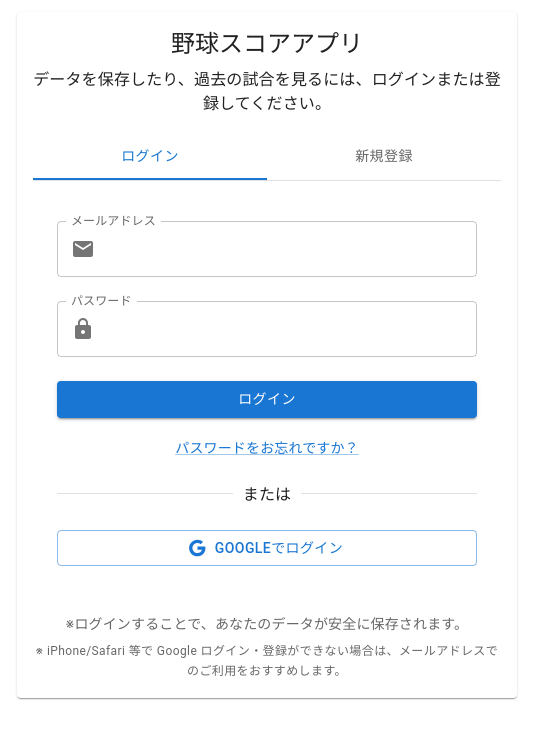
Test: Login component - Google Sign In › ポップアップがブラウザにブロックされた場合 (auth/popup-blocked) に適切なメッセージを表示する
This screenshot has width=535, height=748.
Click the button "Googleでログイン". click: (267, 548)
box: [57,530,477,566]
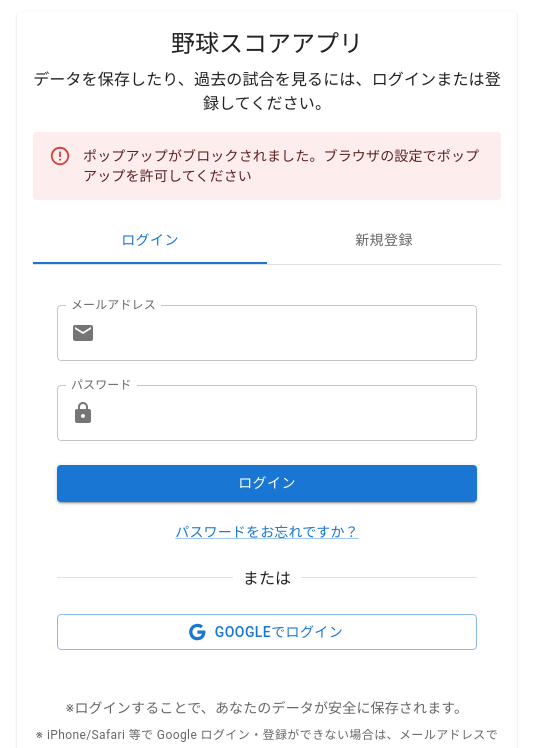
Check: the button "Googleでログイン" is enabled, box [57,614,477,650]
Check: the message reads "ポップアップがブロックされました。ブラウザの設定でポップアップを許可してください", box [83,148,479,184]
